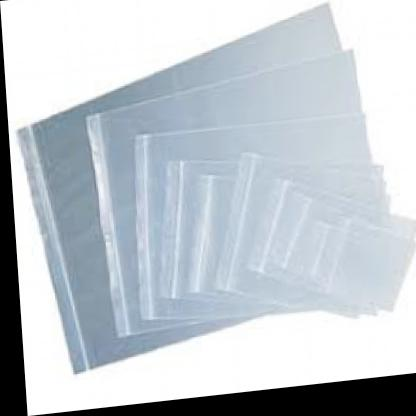Plastic: (13, 6, 416, 376)
